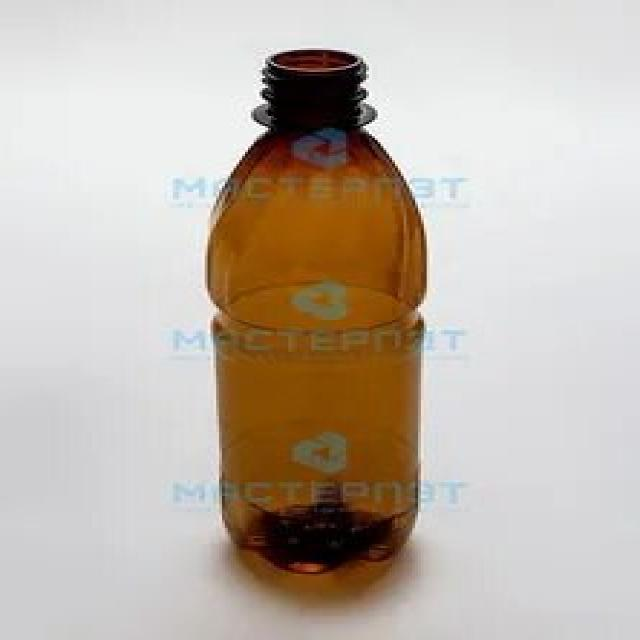brown: (202, 53, 428, 575)
